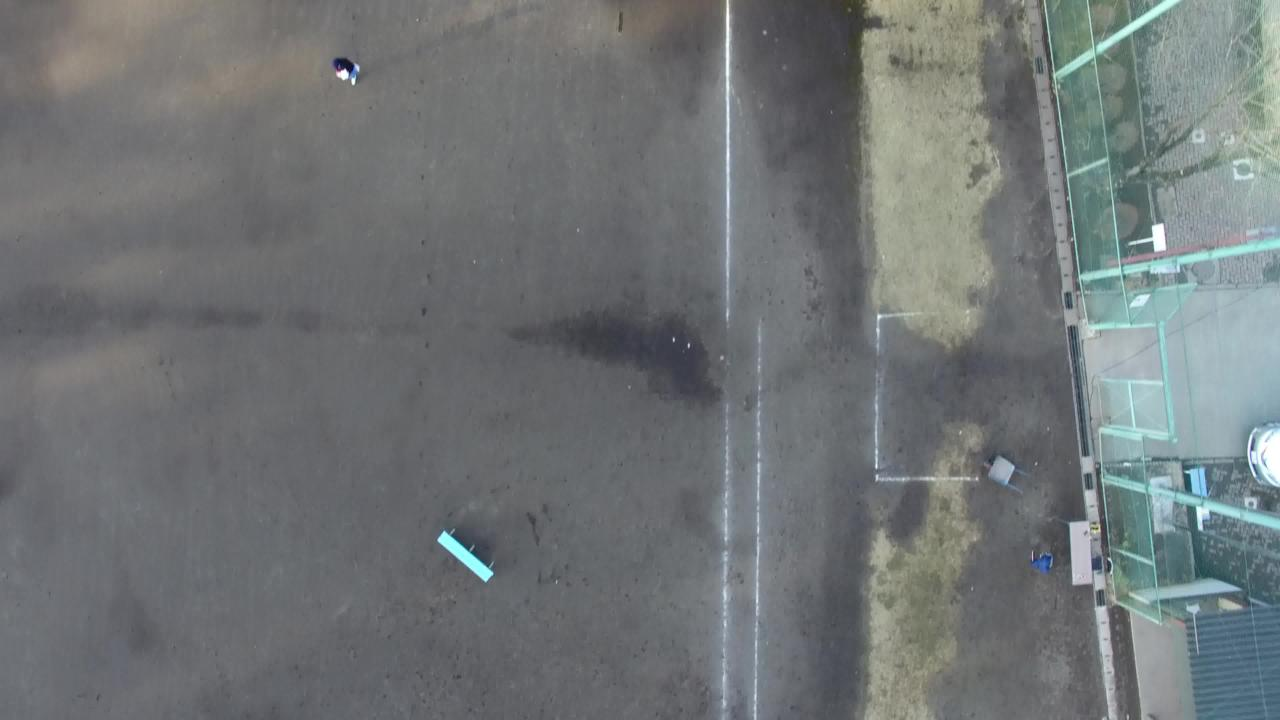bench: (431, 512, 503, 595)
person: (323, 41, 372, 95)
